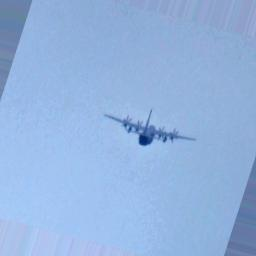Airplane: (105, 106, 198, 148)
